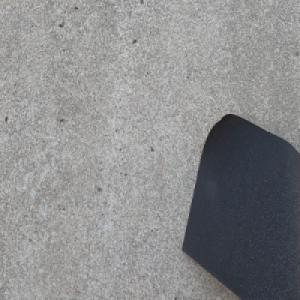PaintChip: (181, 112, 300, 300)
